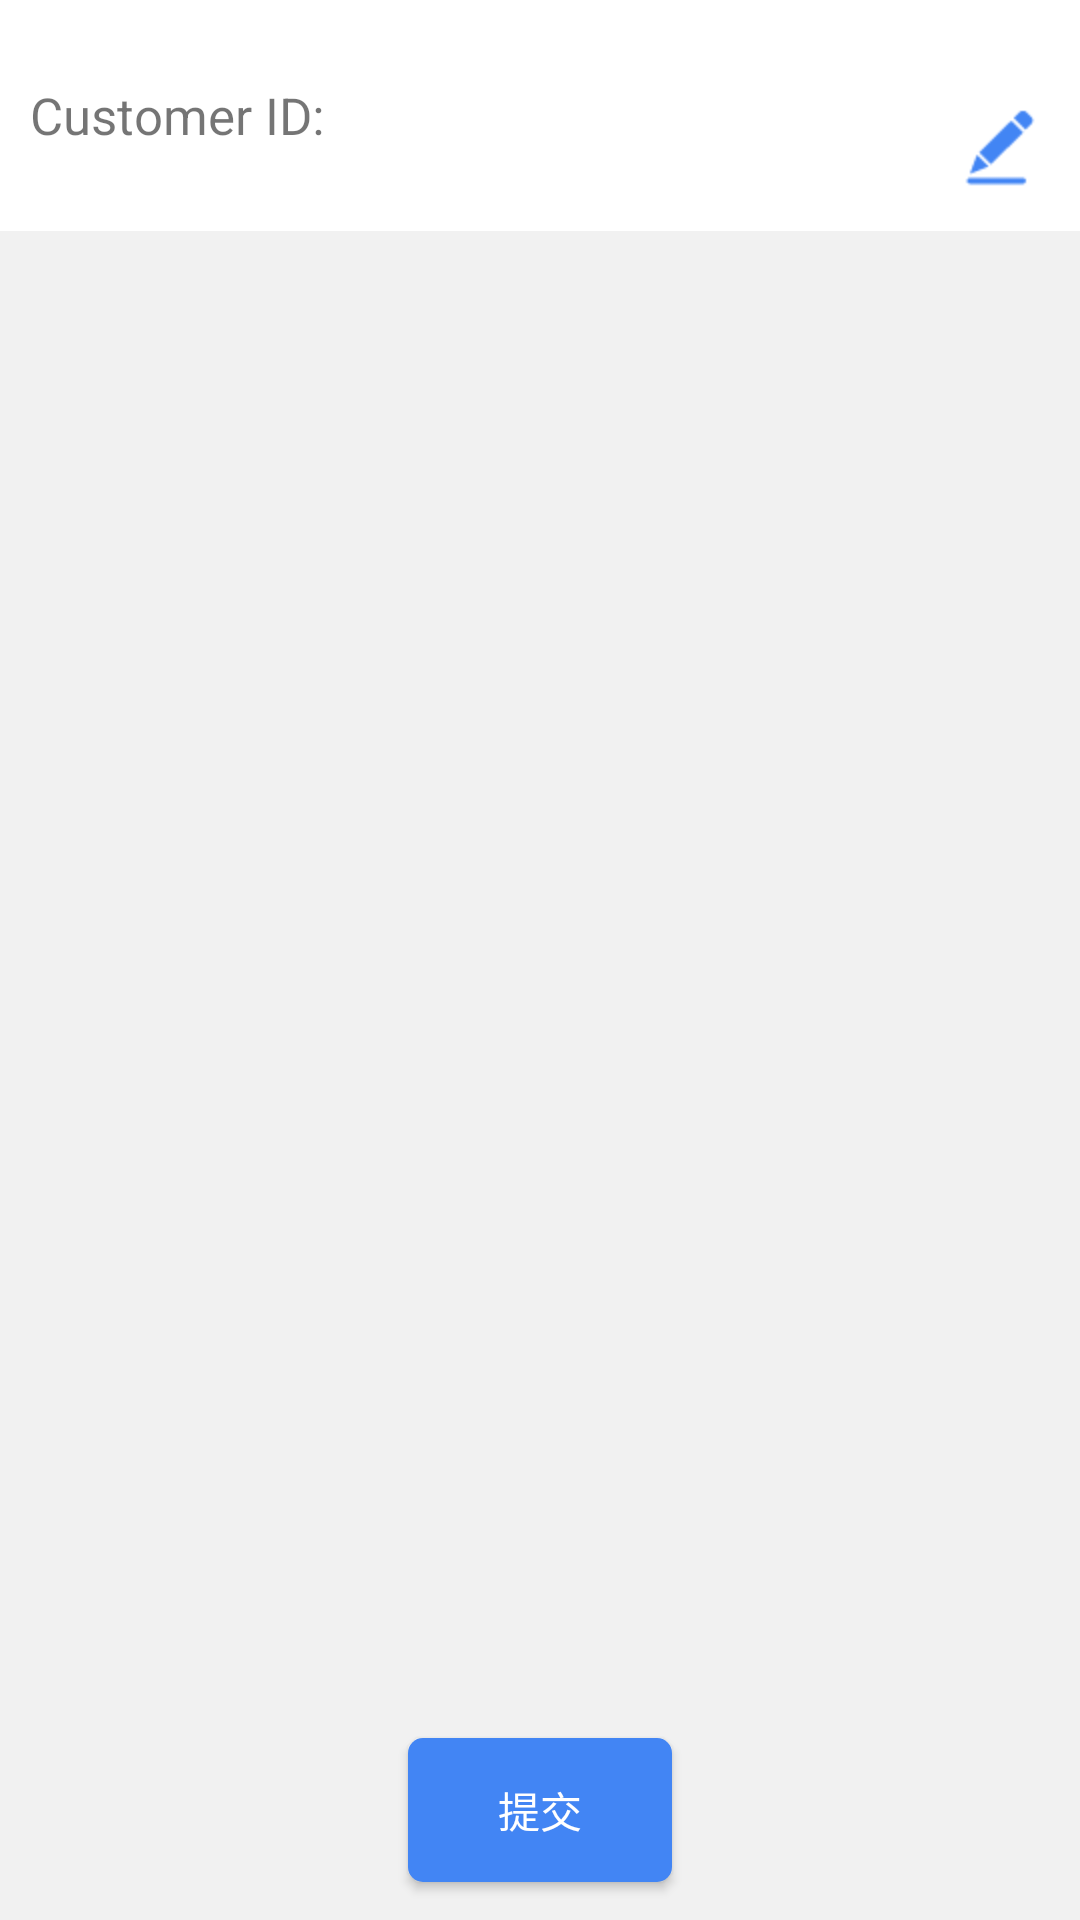

Icons on this 1080px x 1920px Android screen, each with its box as (x1, y1, x2, y2):
warehouse editable: (966, 110, 1034, 185)
